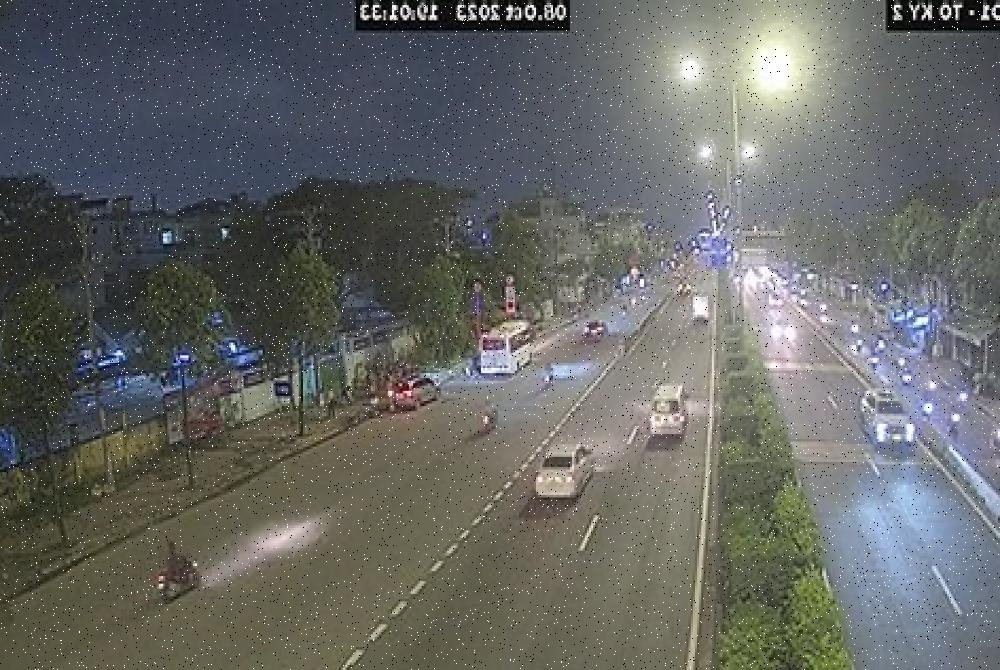bus: (484, 310, 542, 392)
car: (611, 379, 696, 512), (857, 375, 919, 478), (536, 435, 598, 524), (389, 370, 447, 427)
